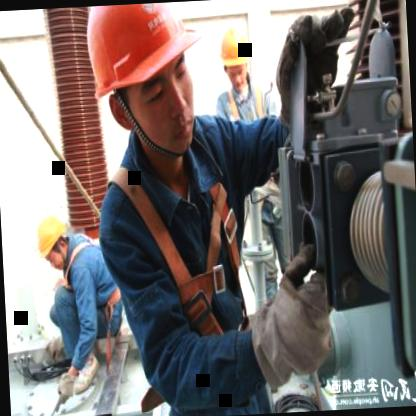helmet: (84, 0, 214, 170), (217, 16, 254, 100), (30, 207, 74, 273)
